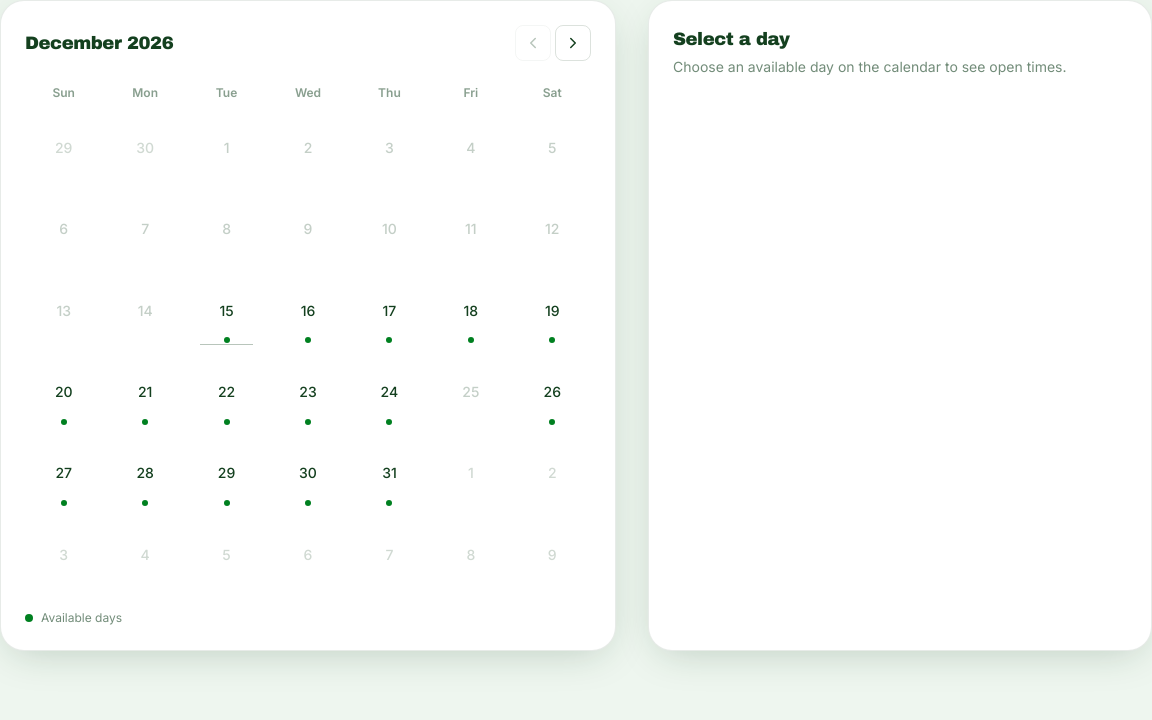
BookingCalendar navigation › navigates within the same year
Click the button named "Next month".
click(573, 43)  # box [555, 25, 591, 61]
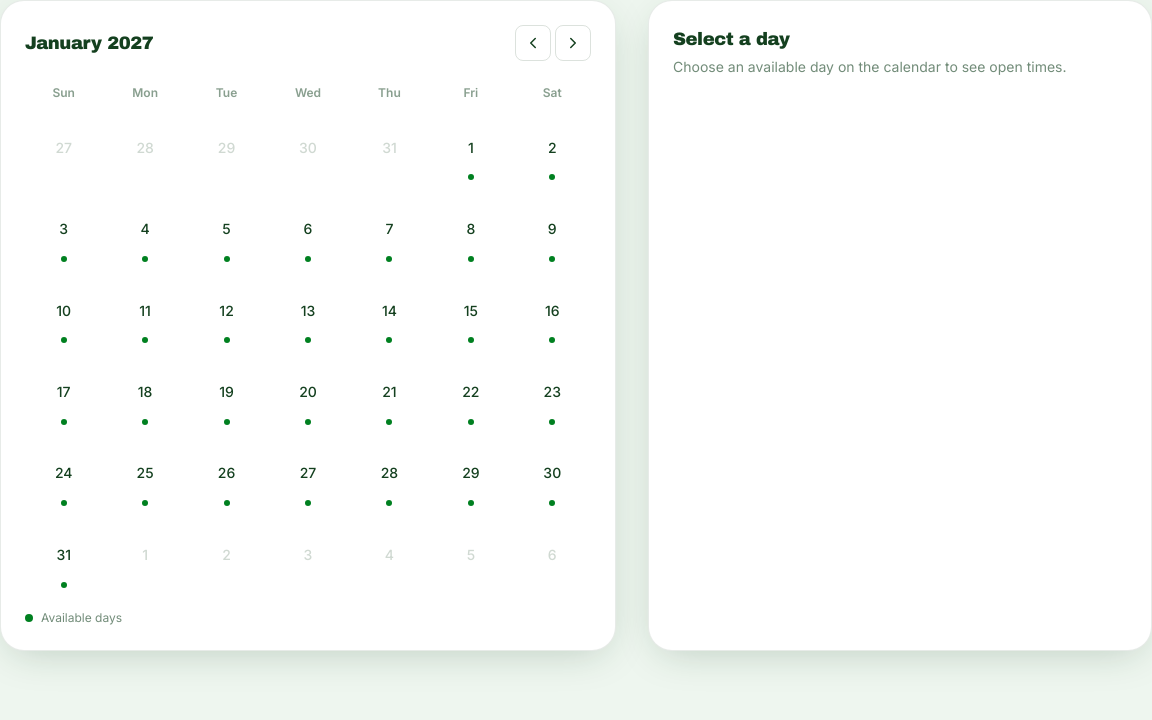
Click the button named "Next month".
click(573, 43)  # box [555, 25, 591, 61]
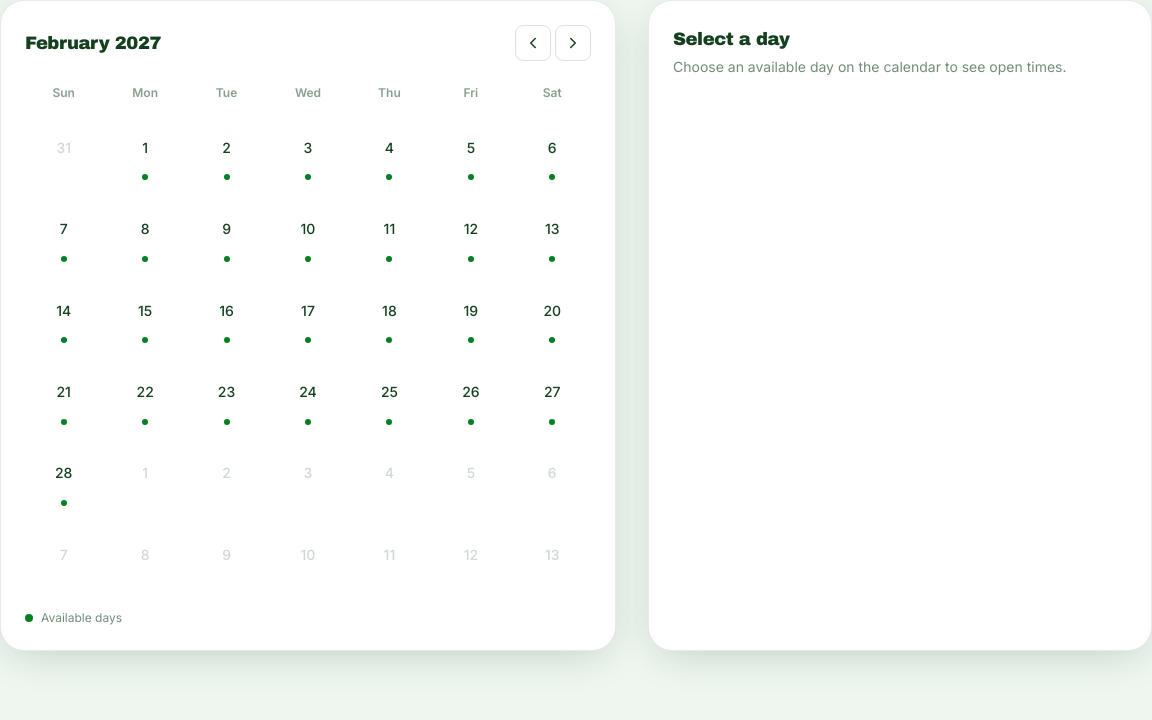
Expected: the heading "February 2027" is shown, [25, 29, 161, 57]
Click the button named "Previous month".
click(533, 43)  # box [515, 25, 551, 61]
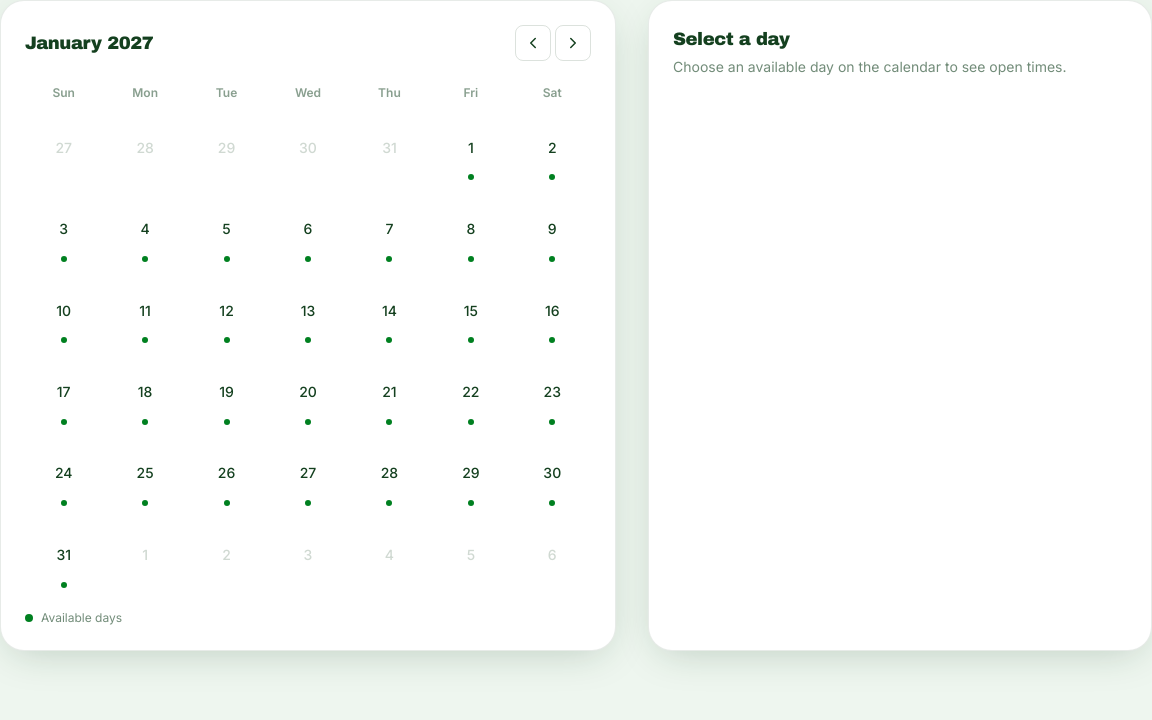
Expected: the heading "January 2027" is shown, [25, 29, 153, 57]
